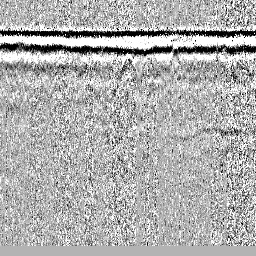cavity: (119, 52, 138, 75)
